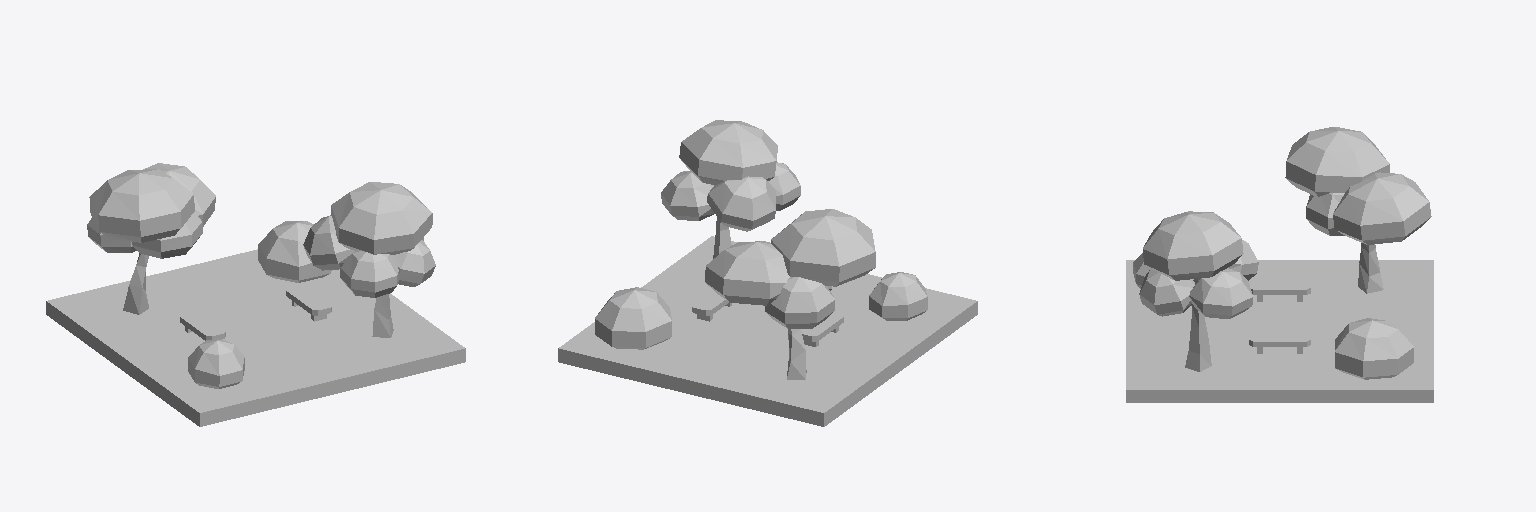
The model's file is park_road_straight_decorated_A.obj.
3 renders of one model, left to right at view 1: azimuth 30°, elevation 25°; view 2: azimuth 150°, elevation 25°; view 3: azimuth 270°, elevation 25°, orthographic.
Visible parts, largest first — view 1: park_road_straight_decorated_A_Cube.14221; view 2: park_road_straight_decorated_A_Cube.14221; view 3: park_road_straight_decorated_A_Cube.14221.
Part boxes in pixels (x1,y1,x2,y2): park_road_straight_decorated_A_Cube.14221: (46,163,465,426); park_road_straight_decorated_A_Cube.14221: (558,120,977,426); park_road_straight_decorated_A_Cube.14221: (1126,127,1433,402).
Size of the model in its own units: 2 by 1.19 by 2.